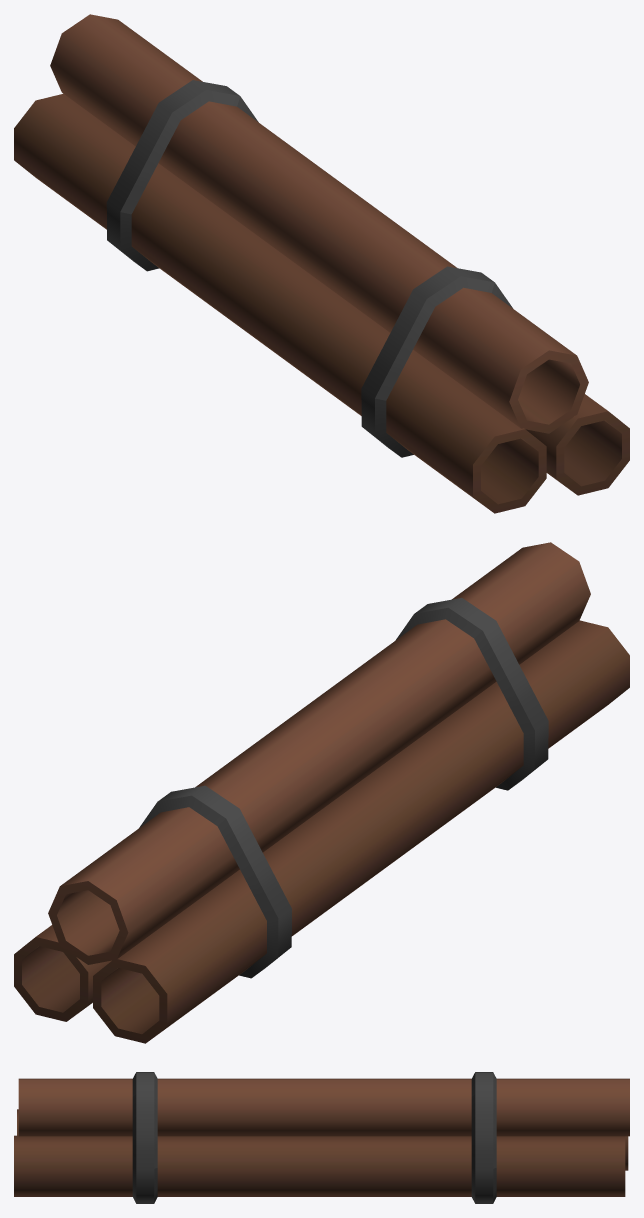
Rendered from Pipes_C_1_1.fbx.
3 views of the same model, one above another, from view 1: azimuth 30°, elevation 25°; view 2: azimuth 150°, elevation 25°; view 3: azimuth 270°, elevation 25° (orthographic). The views are drawn at different scales.
Visible parts, largest first — view 1: Pipes_C_1_1; view 2: Pipes_C_1_1; view 3: Pipes_C_1_1.
Boxes of the visible parts, box(x1,y1,x2,y2) form: Pipes_C_1_1: box(14, 14, 629, 513); Pipes_C_1_1: box(14, 542, 629, 1043); Pipes_C_1_1: box(14, 1072, 629, 1203).
Size of the model in its own units: 119 by 111 by 555.
